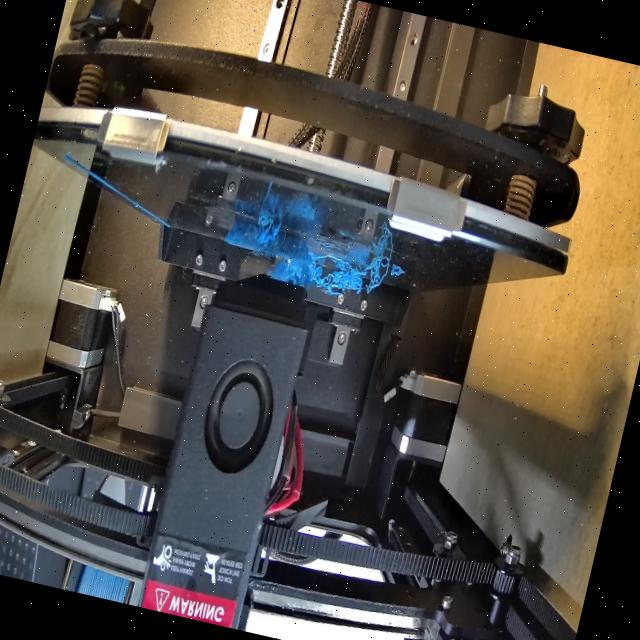spaghetti: (264, 232, 386, 305), (238, 203, 294, 266)
